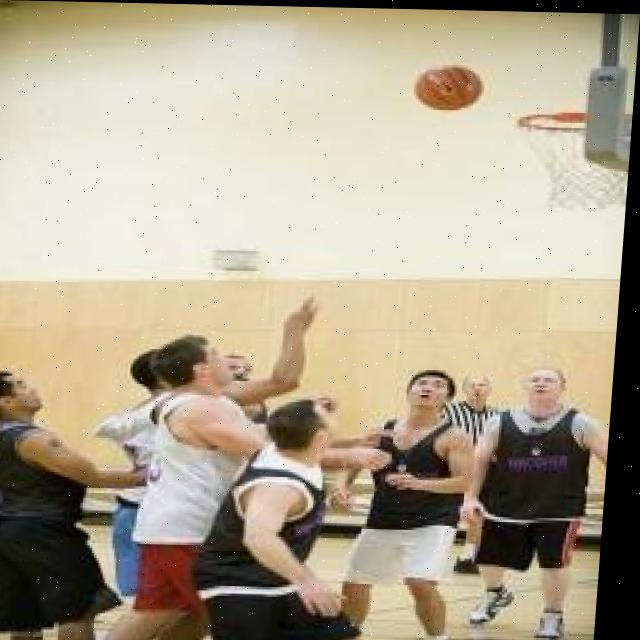basketball: (411, 61, 487, 115)
hoop: (510, 105, 633, 215)
